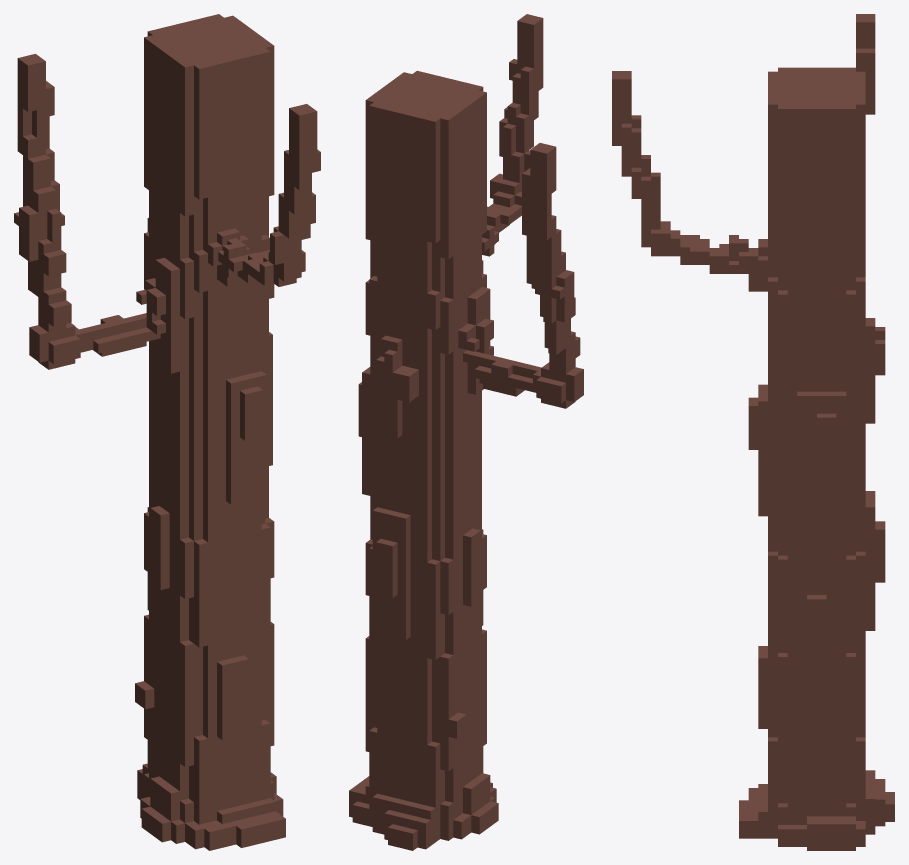
Rendered from trunk_2.glb.
The picture shows the model from 3 angles, left to right: view 1: azimuth 30°, elevation 25°; view 2: azimuth 150°, elevation 25°; view 3: azimuth 270°, elevation 25°; orthographic projection. The views are drawn at different scales.
Visible parts, largest first — view 1: trunk_2; view 2: trunk_2; view 3: trunk_2.
Part boxes in pixels (bbox=[...]): trunk_2: bbox=[14, 14, 320, 850]; trunk_2: bbox=[349, 14, 583, 850]; trunk_2: bbox=[612, 14, 894, 850].
Bounding box in the file's own units: 2.6 × 8.4 × 2.9.
1 material, 1 textured.
